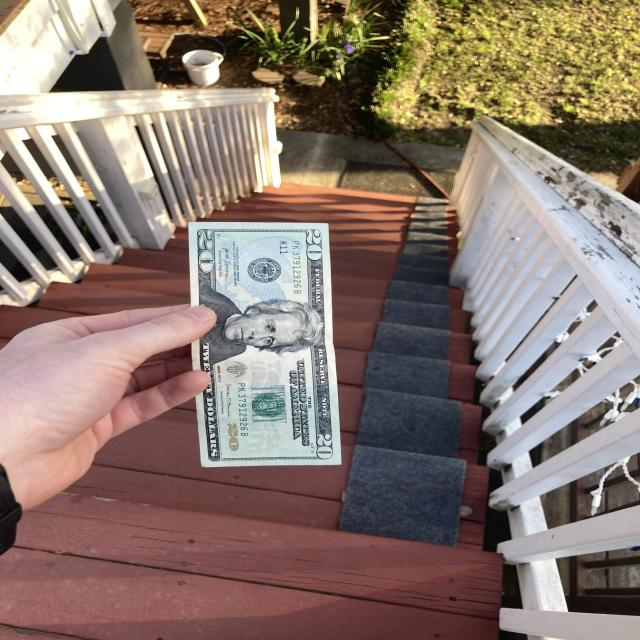twenty: (184, 213, 343, 474)
